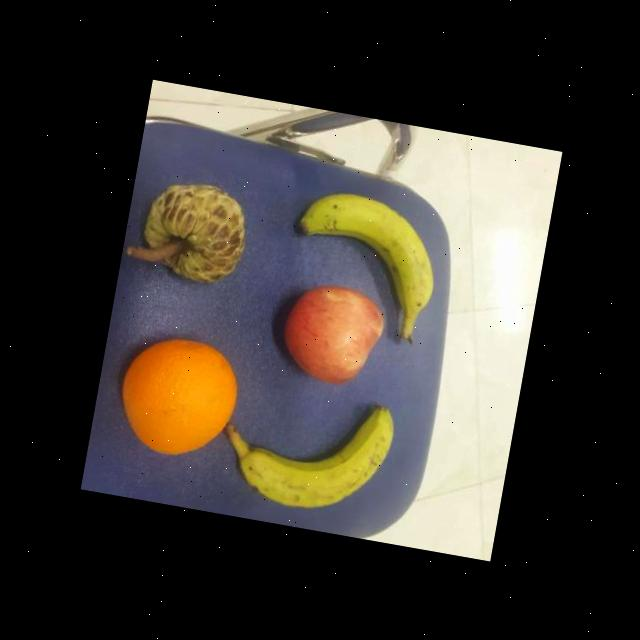Sakya fruit: (136, 176, 253, 288)
apple: (274, 278, 388, 391)
banana: (279, 184, 446, 348), (231, 382, 397, 523)
orange: (110, 328, 246, 464)
